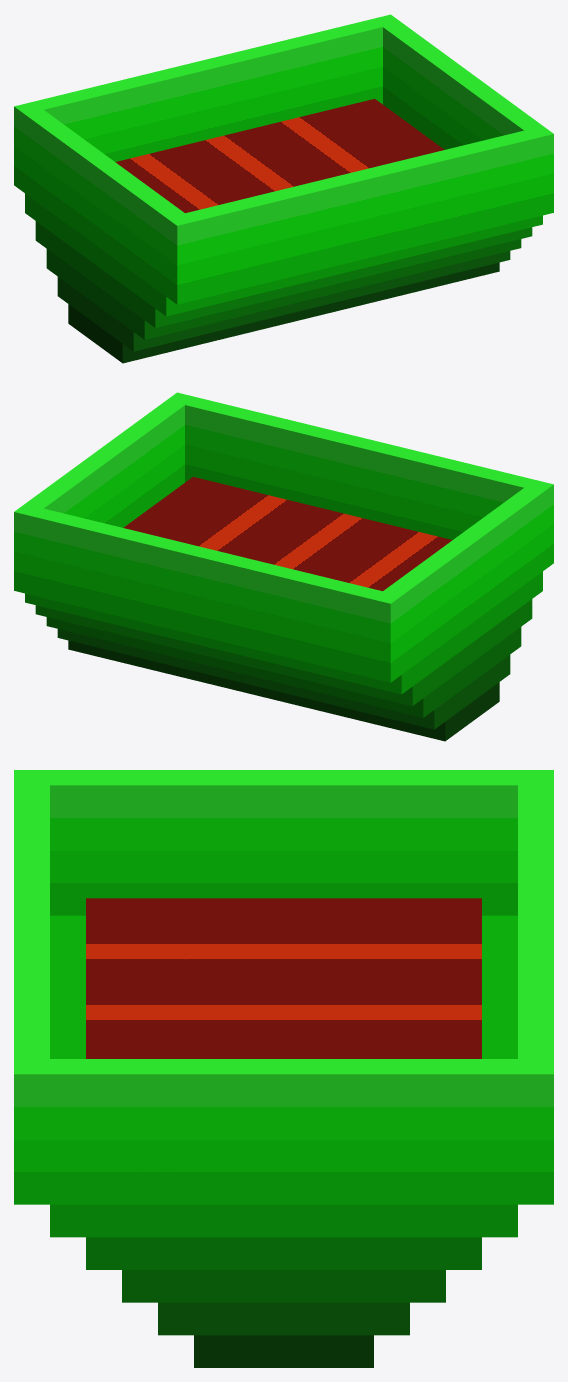
The model's file is Vehicle_28.fbx.
3 views of the same model, one above another, from view 1: azimuth 30°, elevation 25°; view 2: azimuth 150°, elevation 25°; view 3: azimuth 270°, elevation 25° (orthographic). The views are drawn at different scales.
Visible parts, largest first — view 1: Vehicle_28; view 2: Vehicle_28; view 3: Vehicle_28.
Boxes of the visible parts, x1=… form: Vehicle_28: x1=14, y1=14, x2=553, y2=363; Vehicle_28: x1=14, y1=392, x2=553, y2=741; Vehicle_28: x1=14, y1=770, x2=553, y2=1367.
Bounding box in the file's own units: 20 × 9 × 15.
1 material, 1 textured.
